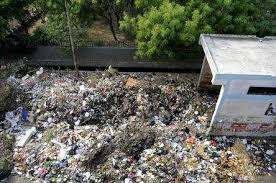garbage: (10, 72, 201, 183), (57, 136, 276, 182)
